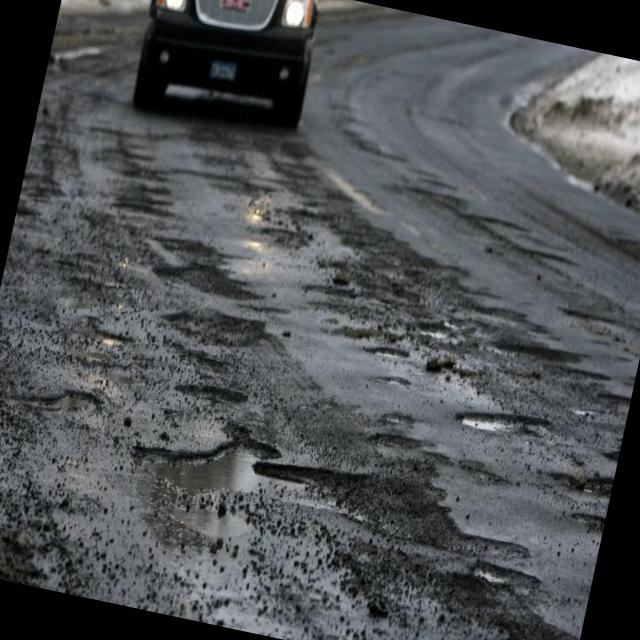Potholes: (124, 399, 410, 558), (114, 217, 290, 367), (291, 266, 494, 392), (0, 491, 72, 586), (453, 390, 552, 450), (158, 366, 250, 416), (461, 627, 546, 640)
